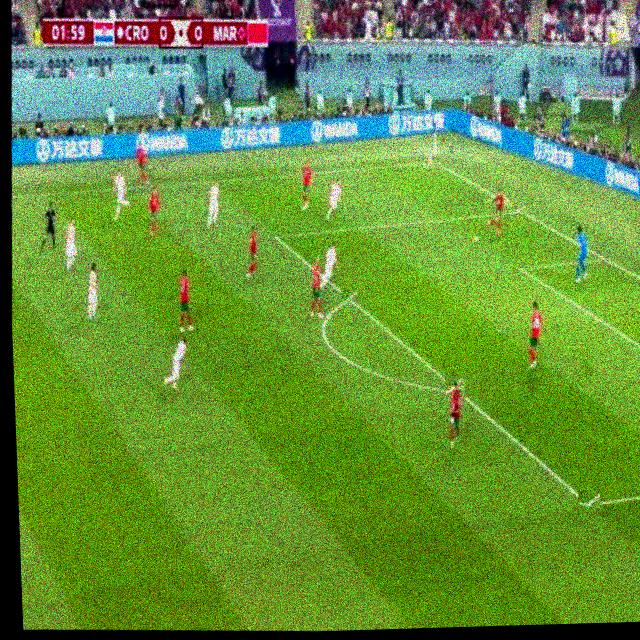bigarea_bottom_inner: (576, 487, 600, 519)
bigarea_top_inner: (266, 225, 282, 247)
bigarea_top_outter: (510, 199, 527, 220)
bottom_arc_area_intersection: (444, 378, 466, 401)
corner: (424, 153, 441, 169)
smallarea_top_inner: (509, 257, 529, 278)
smallarea_top_outter: (593, 247, 611, 268)
top_arc_area_intersection: (340, 287, 358, 309)
